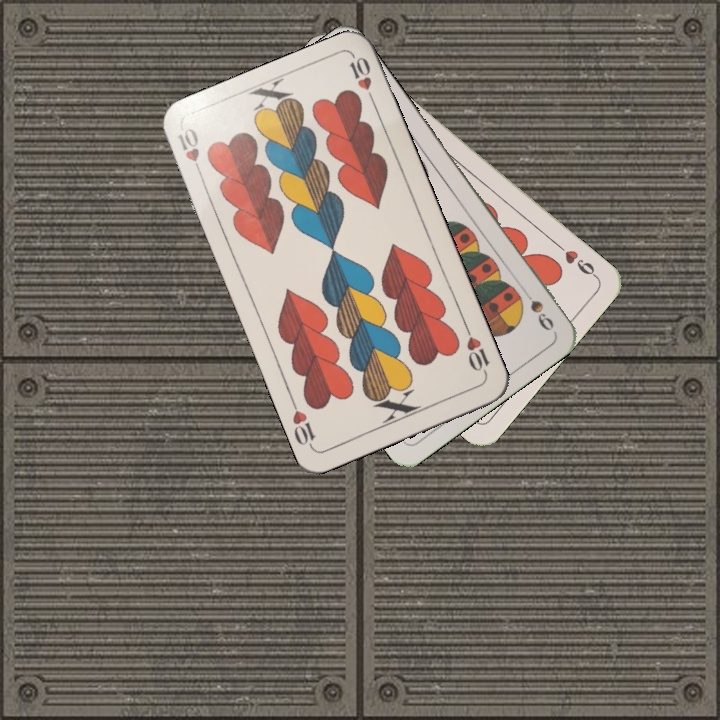H10: (173, 124, 206, 181), (460, 321, 492, 378)
H9: (550, 238, 600, 281)
S9: (516, 282, 557, 334)
